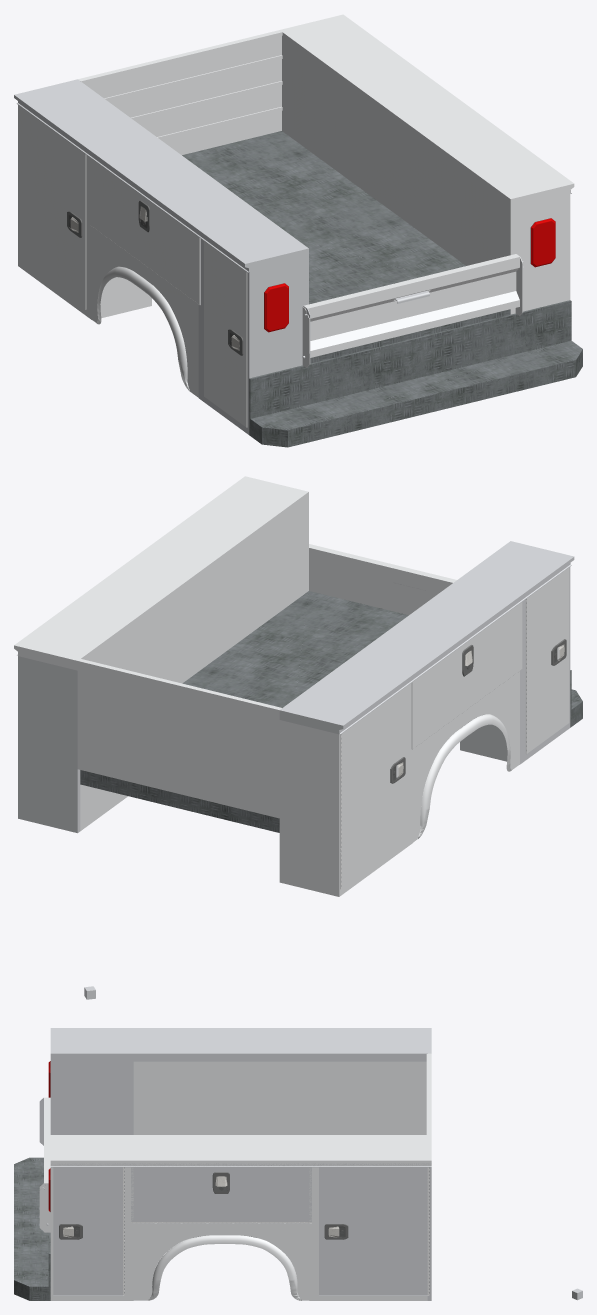
The model's file is RAM 2500HD CC 696j Body.glb.
3 views of the same model, one above another, from view 1: azimuth 30°, elevation 25°; view 2: azimuth 150°, elevation 25°; view 3: azimuth 270°, elevation 25° (orthographic). The views are drawn at different scales.
Parts seen in each view (by area): view 1: Geom3D_ (×23); view 2: Geom3D_ (×19); view 3: Geom3D_ (×23).
Part boxes in pixels (<box>): Geom3D_ (×23): <box>14,14,582,447</box>; Geom3D_ (×19): <box>14,476,574,896</box>; Geom3D_ (×23): <box>14,1028,431,1300</box>.
Size of the model in its own units: 2.03 by 1.46 by 3.69.
9 materials, 2 textured.
